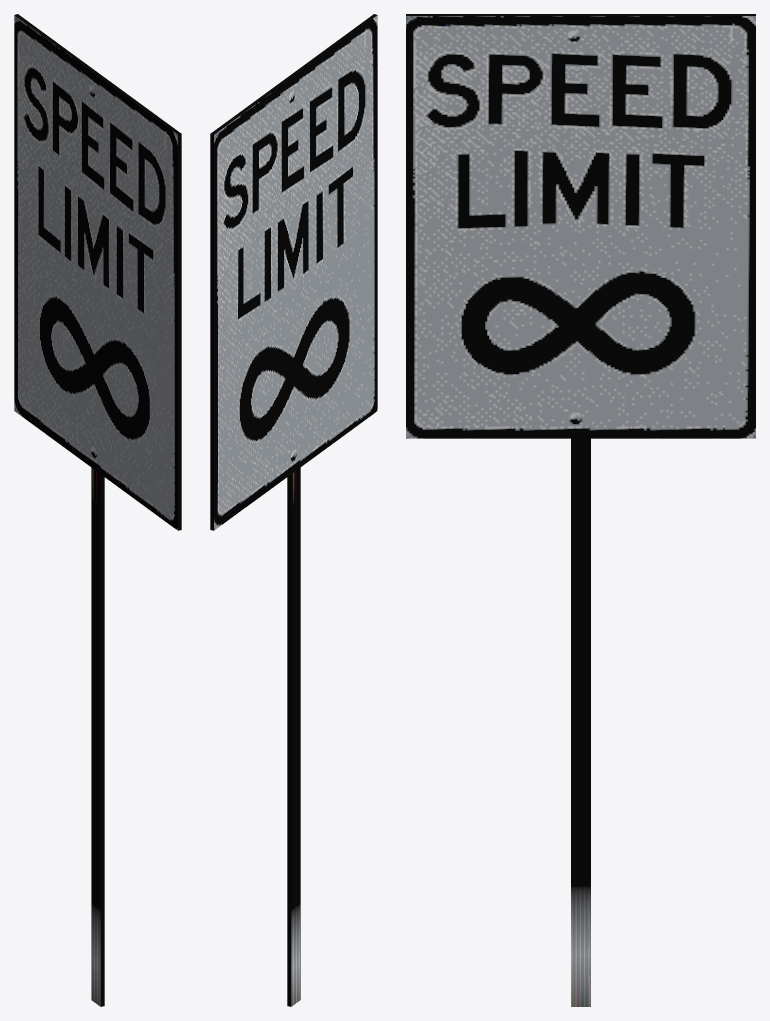
Rendered from sign.obj.
3 views of the same model, side by side, from view 1: azimuth 30°, elevation 25°; view 2: azimuth 150°, elevation 25°; view 3: azimuth 270°, elevation 25° (orthographic). The views are drawn at different scales.
Visible parts, largest first — view 1: Plane; view 2: Plane; view 3: Plane.
Boxes of the visible parts, x1,y1,x2,y2 form: Plane: [14, 14, 181, 1006]; Plane: [210, 14, 377, 1006]; Plane: [406, 14, 755, 1006].
Size of the model in its own units: 0.01 by 2.35 by 0.75.
1 material, 1 textured.
